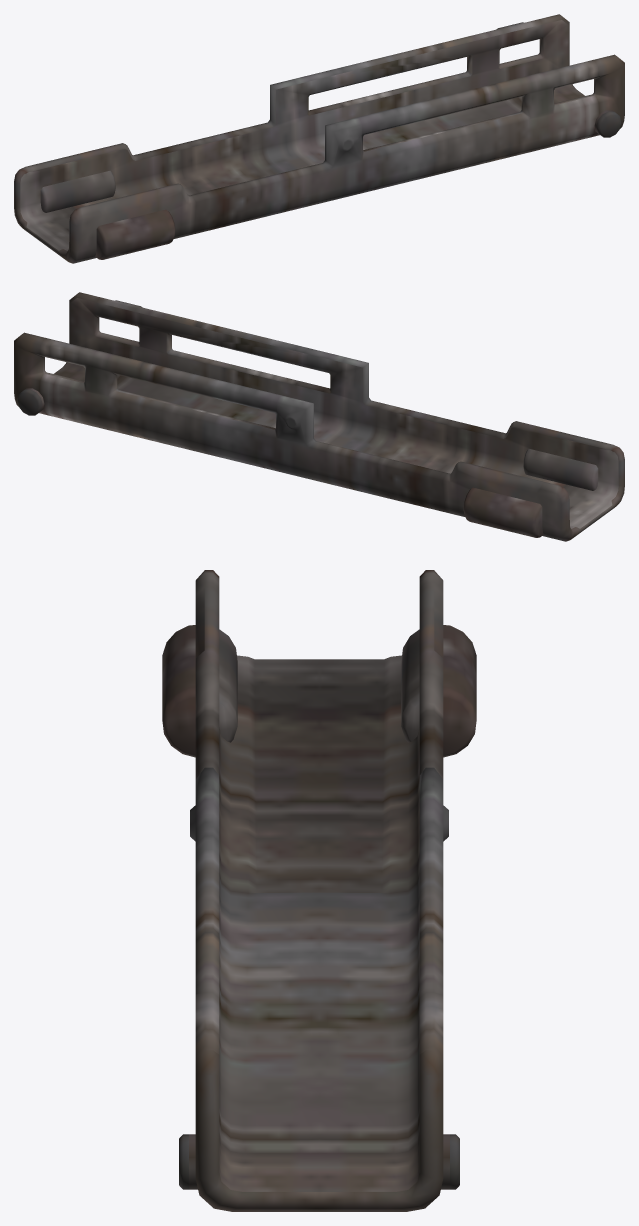
Rendered from HeavyWeapons_Vladof_Barrel_Vred_Acc_1.obj.
The picture shows the model from 3 angles, top to bottom: view 1: azimuth 30°, elevation 25°; view 2: azimuth 150°, elevation 25°; view 3: azimuth 270°, elevation 25°; orthographic projection. The views are drawn at different scales.
Visible parts, largest first — view 1: SK_HW_VLA.158, SK_HW_VLA.161, SK_HW_VLA.163, SK_HW_VLA.162; view 2: SK_HW_VLA.158, SK_HW_VLA.159, SK_HW_VLA.164, SK_HW_VLA.160; view 3: SK_HW_VLA.158, SK_HW_VLA.159, SK_HW_VLA.161, SK_HW_VLA.163, SK_HW_VLA.164, SK_HW_VLA.160, SK_HW_VLA.162.
Part boxes in pixels (box(x1,y1,x2,y2)): SK_HW_VLA.158: box(14, 14, 624, 263); SK_HW_VLA.161: box(95, 209, 175, 259); SK_HW_VLA.163: box(40, 171, 115, 212); SK_HW_VLA.162: box(594, 110, 621, 137); SK_HW_VLA.158: box(14, 292, 624, 541); SK_HW_VLA.159: box(463, 487, 543, 537); SK_HW_VLA.164: box(523, 449, 598, 490); SK_HW_VLA.160: box(17, 388, 44, 415); SK_HW_VLA.158: box(190, 570, 448, 1211); SK_HW_VLA.159: box(443, 625, 476, 757); SK_HW_VLA.161: box(162, 625, 195, 757); SK_HW_VLA.163: box(401, 629, 419, 742); SK_HW_VLA.164: box(219, 629, 237, 742); SK_HW_VLA.160: box(441, 1134, 459, 1189); SK_HW_VLA.162: box(179, 1134, 197, 1189).
Bounding box in the file's own units: 63.71 × 8.68 × 15.66.
